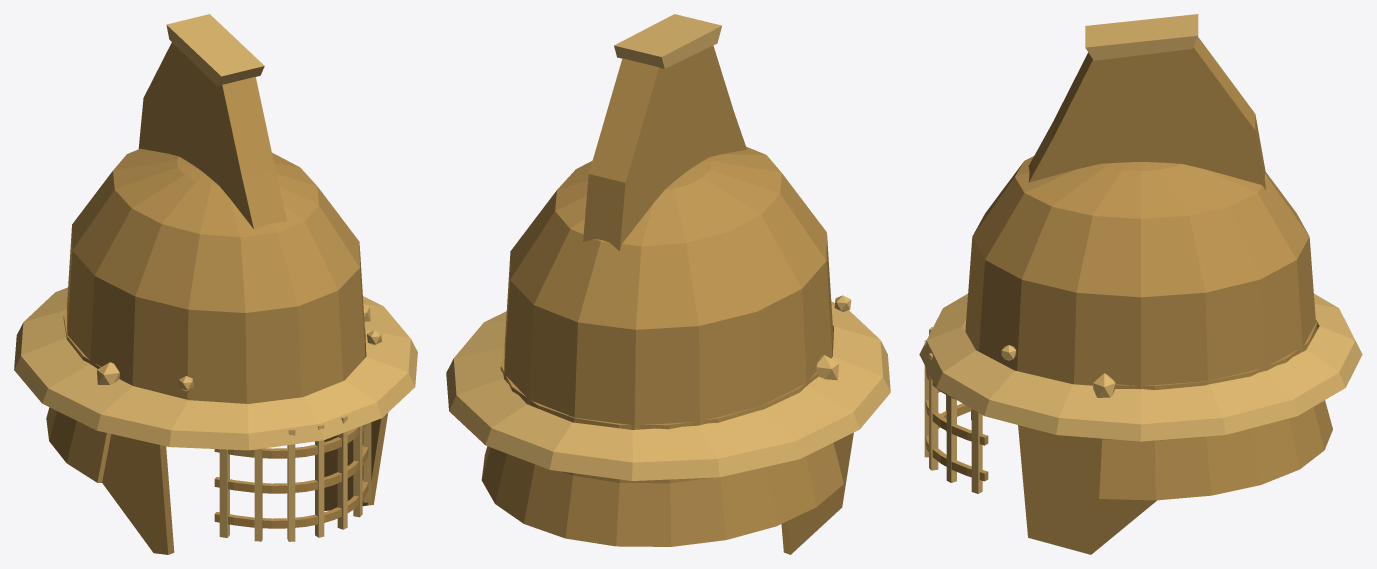
The model's file is Helmet_T2_GLADIATRIX.fbx.
3 renders of one model, left to right at view 1: azimuth 30°, elevation 25°; view 2: azimuth 150°, elevation 25°; view 3: azimuth 270°, elevation 25°, orthographic. The views are drawn at different scales.
Visible parts, largest first — view 1: T2_GLADIATRIX_Part_01, T2_GLADIATRIX_Part_02, T2_GLADIATRIX_Part_11, T2_GLADIATRIX_Part_07, T2_GLADIATRIX_Part_21, T2_GLADIATRIX_Part_03, T2_GLADIATRIX_Part_09, T2_GLADIATRIX_Part_06, T2_GLADIATRIX_Part_05, T2_GLADIATRIX_Part_04, T2_GLADIATRIX_Part_18, T2_GLADIATRIX_Part_14 (+5 smaller); view 2: T2_GLADIATRIX_Part_01, T2_GLADIATRIX_Part_02, T2_GLADIATRIX_Part_03, T2_GLADIATRIX_Part_11, T2_GLADIATRIX_Part_21, T2_GLADIATRIX_Part_07; view 3: T2_GLADIATRIX_Part_01, T2_GLADIATRIX_Part_02, T2_GLADIATRIX_Part_11, T2_GLADIATRIX_Part_03, T2_GLADIATRIX_Part_09, T2_GLADIATRIX_Part_21, T2_GLADIATRIX_Part_20, T2_GLADIATRIX_Part_19, T2_GLADIATRIX_Part_18, T2_GLADIATRIX_Part_06, T2_GLADIATRIX_Part_05.
Part boxes in pixels (x1,y1,x2,y2): T2_GLADIATRIX_Part_01: (66, 148, 365, 403); T2_GLADIATRIX_Part_02: (14, 287, 417, 450); T2_GLADIATRIX_Part_11: (138, 42, 287, 229); T2_GLADIATRIX_Part_07: (102, 434, 174, 554); T2_GLADIATRIX_Part_21: (166, 14, 264, 86); T2_GLADIATRIX_Part_03: (46, 309, 111, 482); T2_GLADIATRIX_Part_09: (324, 413, 387, 510); T2_GLADIATRIX_Part_06: (214, 479, 368, 528); T2_GLADIATRIX_Part_05: (214, 444, 368, 493); T2_GLADIATRIX_Part_04: (214, 424, 366, 458); T2_GLADIATRIX_Part_18: (337, 415, 347, 529); T2_GLADIATRIX_Part_14: (219, 449, 229, 537); T2_GLADIATRIX_Part_01: (504, 146, 832, 429); T2_GLADIATRIX_Part_02: (446, 301, 890, 480); T2_GLADIATRIX_Part_03: (481, 342, 843, 546); T2_GLADIATRIX_Part_11: (583, 45, 746, 250); T2_GLADIATRIX_Part_21: (614, 14, 721, 68); T2_GLADIATRIX_Part_07: (781, 432, 853, 554); T2_GLADIATRIX_Part_01: (965, 156, 1315, 389); T2_GLADIATRIX_Part_02: (919, 293, 1362, 441); T2_GLADIATRIX_Part_11: (1028, 37, 1265, 189); T2_GLADIATRIX_Part_03: (1099, 321, 1332, 500); T2_GLADIATRIX_Part_09: (1018, 425, 1156, 554); T2_GLADIATRIX_Part_21: (1085, 14, 1198, 60); T2_GLADIATRIX_Part_20: (971, 409, 982, 493); T2_GLADIATRIX_Part_19: (946, 394, 956, 482); T2_GLADIATRIX_Part_18: (929, 353, 938, 470); T2_GLADIATRIX_Part_06: (925, 403, 988, 481); T2_GLADIATRIX_Part_05: (925, 390, 988, 445).
Size of the model in its own units: 28.07 by 36.62 by 30.22.
